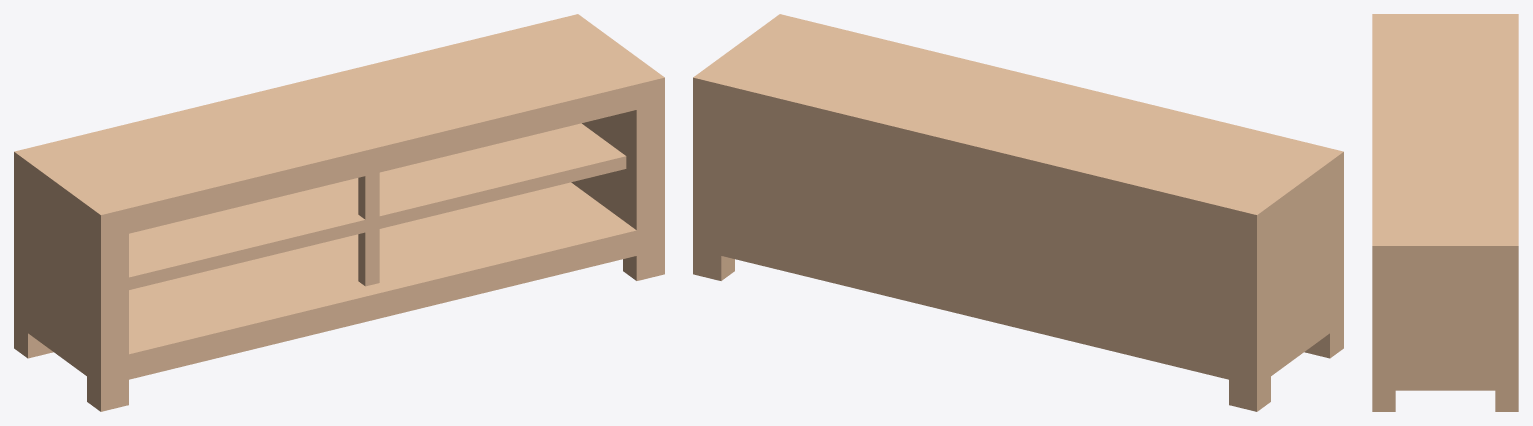
Rendered from kenney-cabinetTelevision.glb.
3 renders of one model, left to right at view 1: azimuth 30°, elevation 25°; view 2: azimuth 150°, elevation 25°; view 3: azimuth 270°, elevation 25°, orthographic. The views are drawn at different scales.
Visible parts, largest first — view 1: cabinetTelevision(Clone); view 2: cabinetTelevision(Clone); view 3: cabinetTelevision(Clone).
Part boxes in pixels (x1=…): cabinetTelevision(Clone): x1=14, y1=14, x2=664, y2=411; cabinetTelevision(Clone): x1=693, y1=14, x2=1343, y2=411; cabinetTelevision(Clone): x1=1372, y1=14, x2=1518, y2=411.
Size of the model in its own units: 1.5 by 0.5 by 0.4001.
